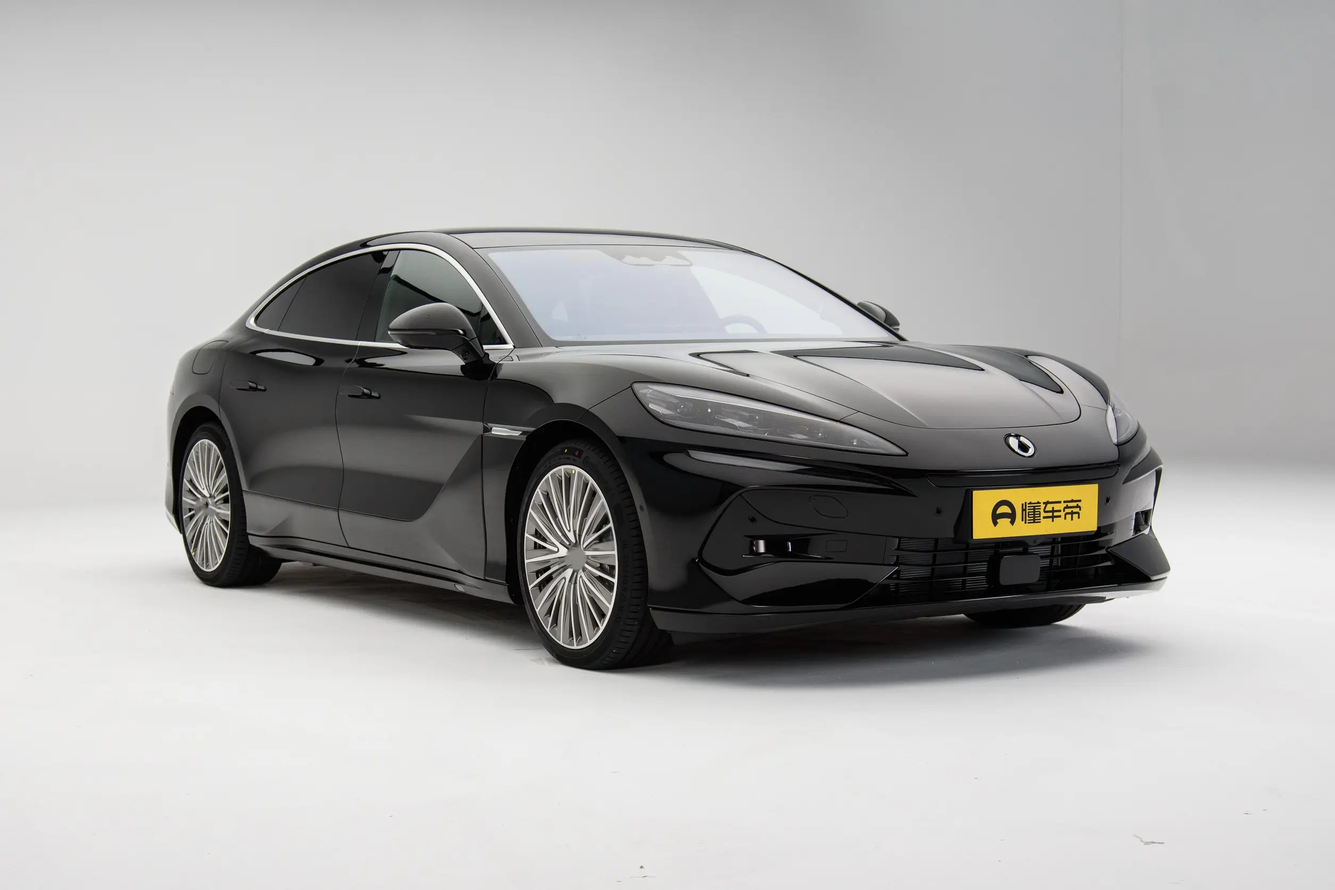DENZA: (1009, 436, 1034, 455)
